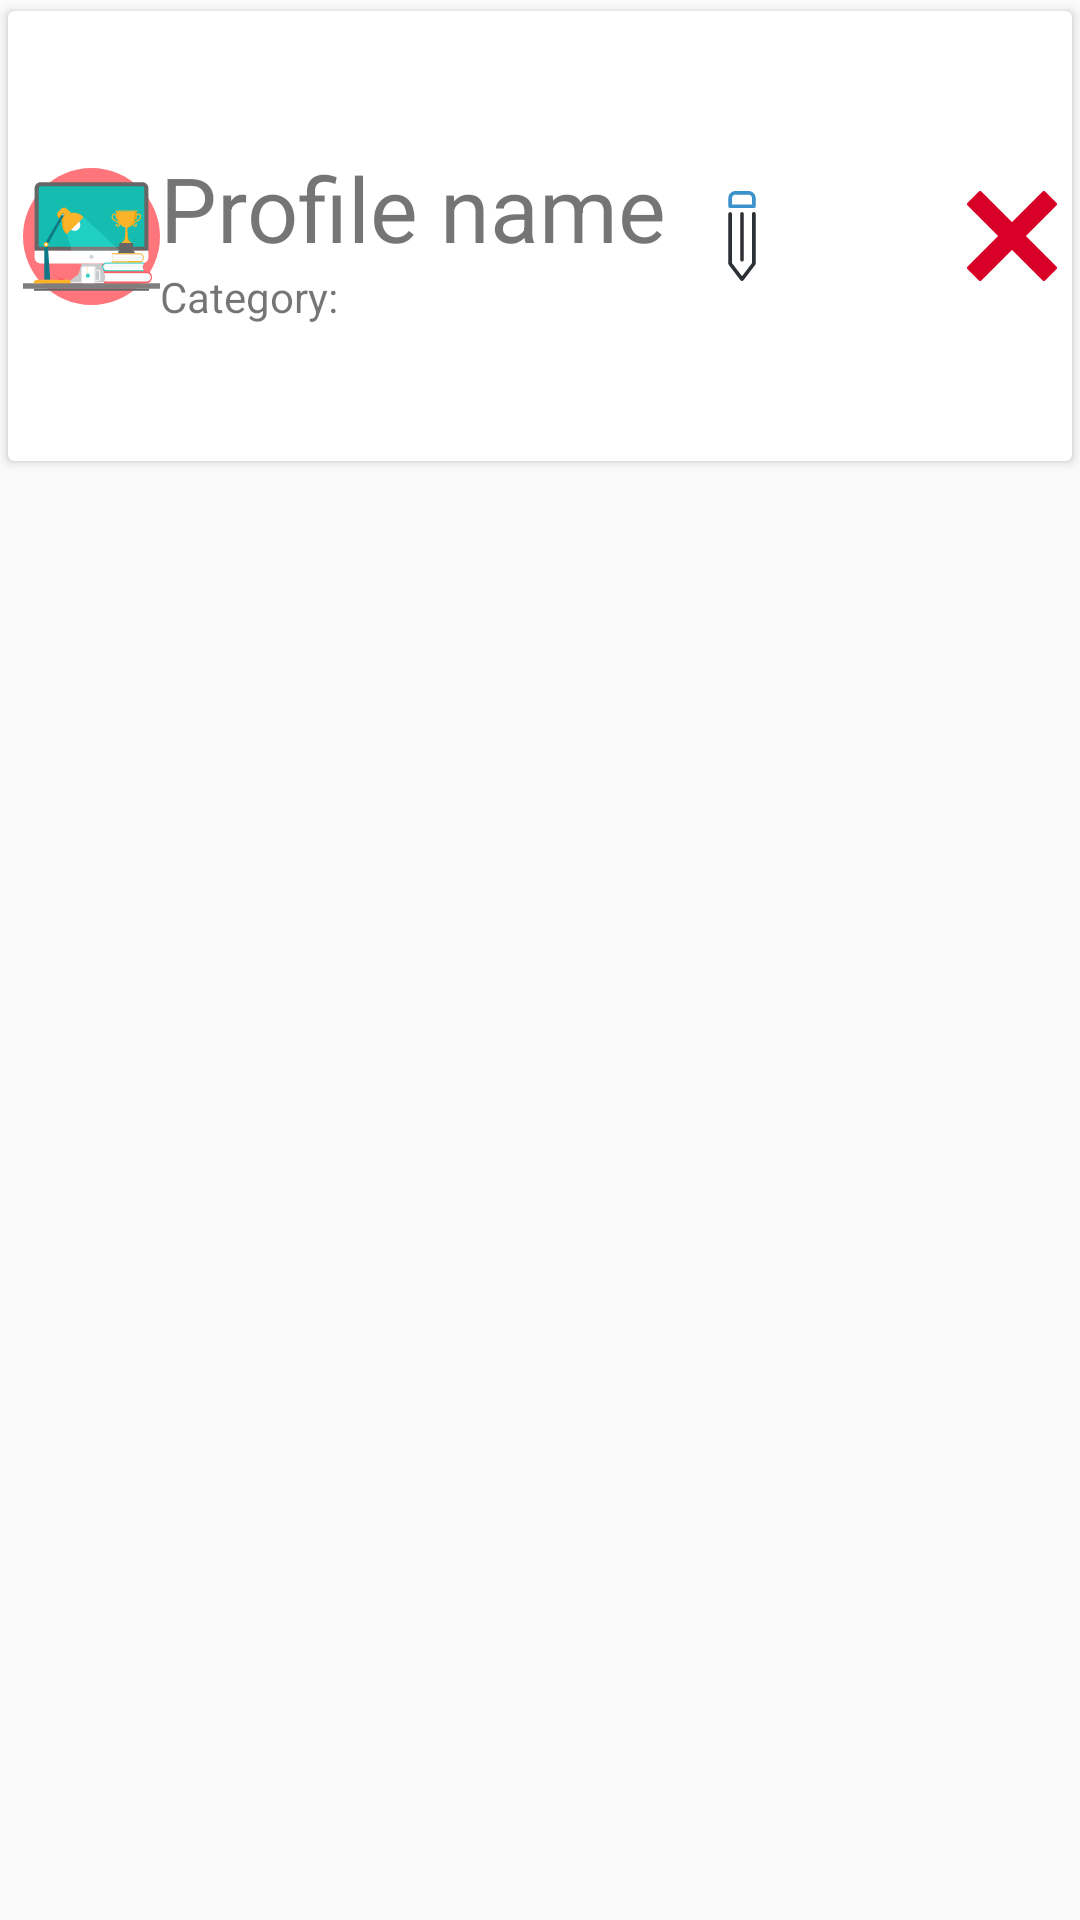

Icons on this 1080px x 1920px Android screen, each with the point to tap as (x,y):
cross remove sign: (1012,236)
office: (91,236)
pencil: (742,236)
